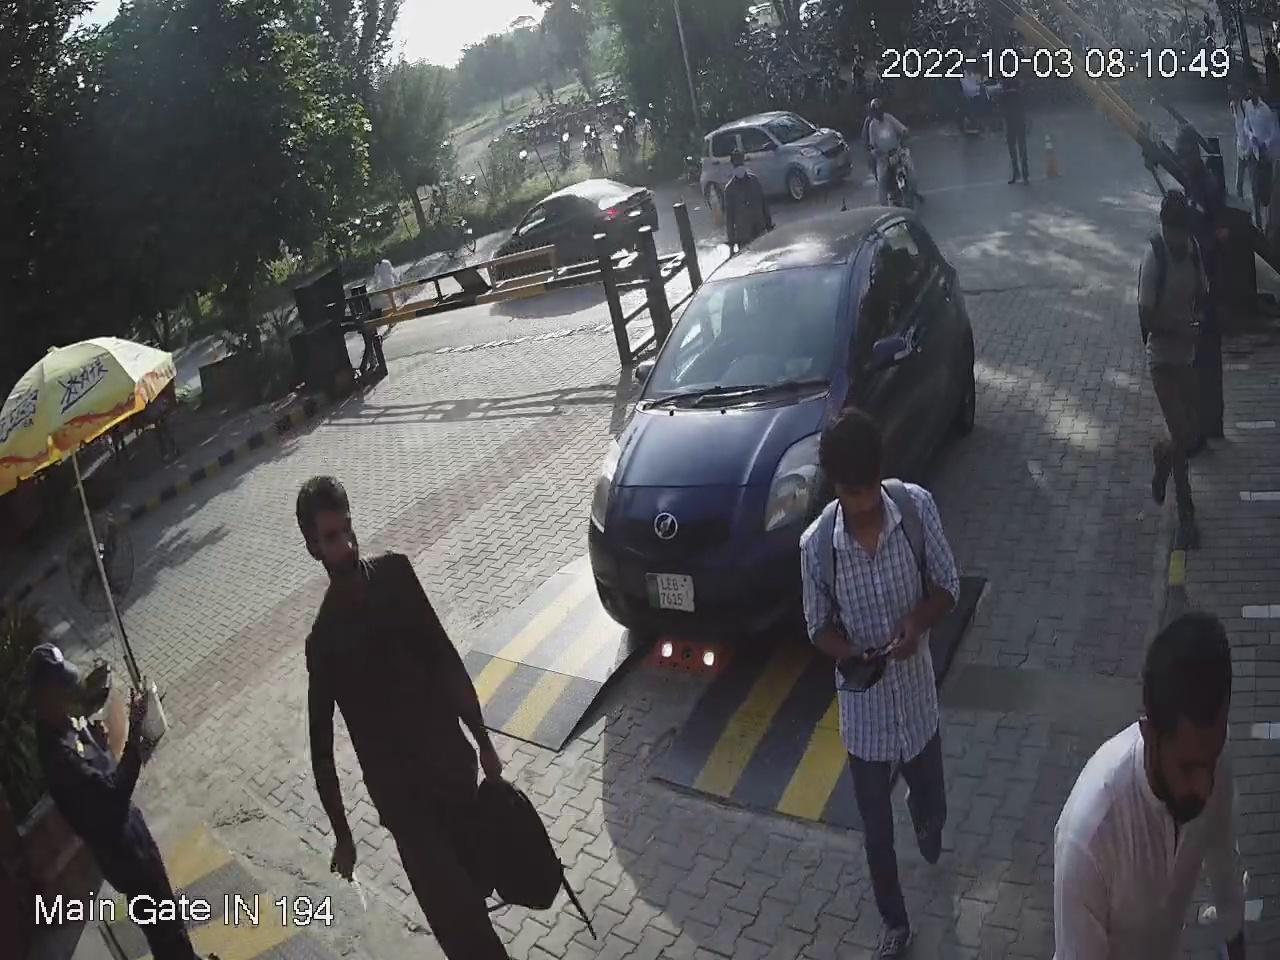windshield: (638, 242, 856, 410)
